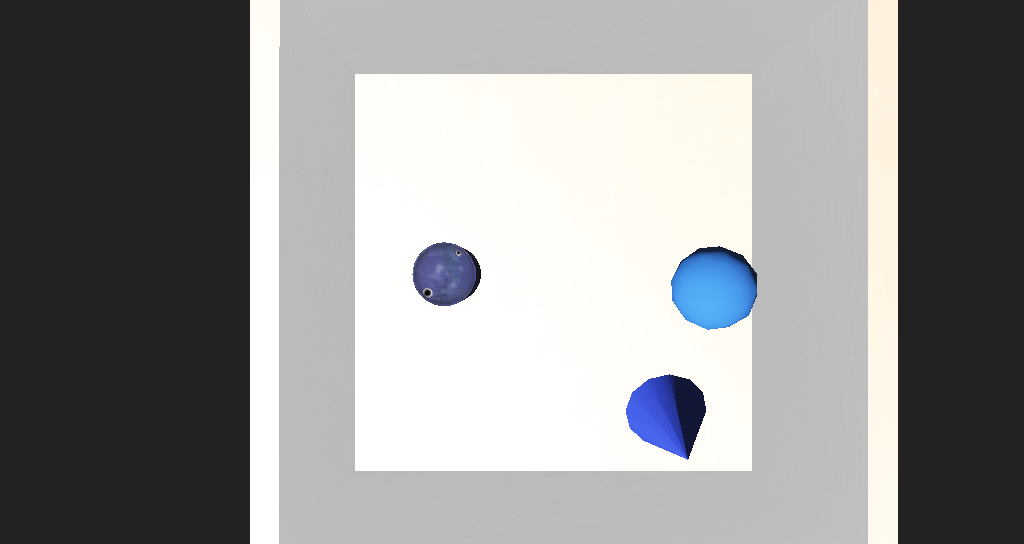cone: (397, 255, 451, 289)
cylinder: (563, 327, 637, 389)
sphere: (596, 255, 657, 298)
